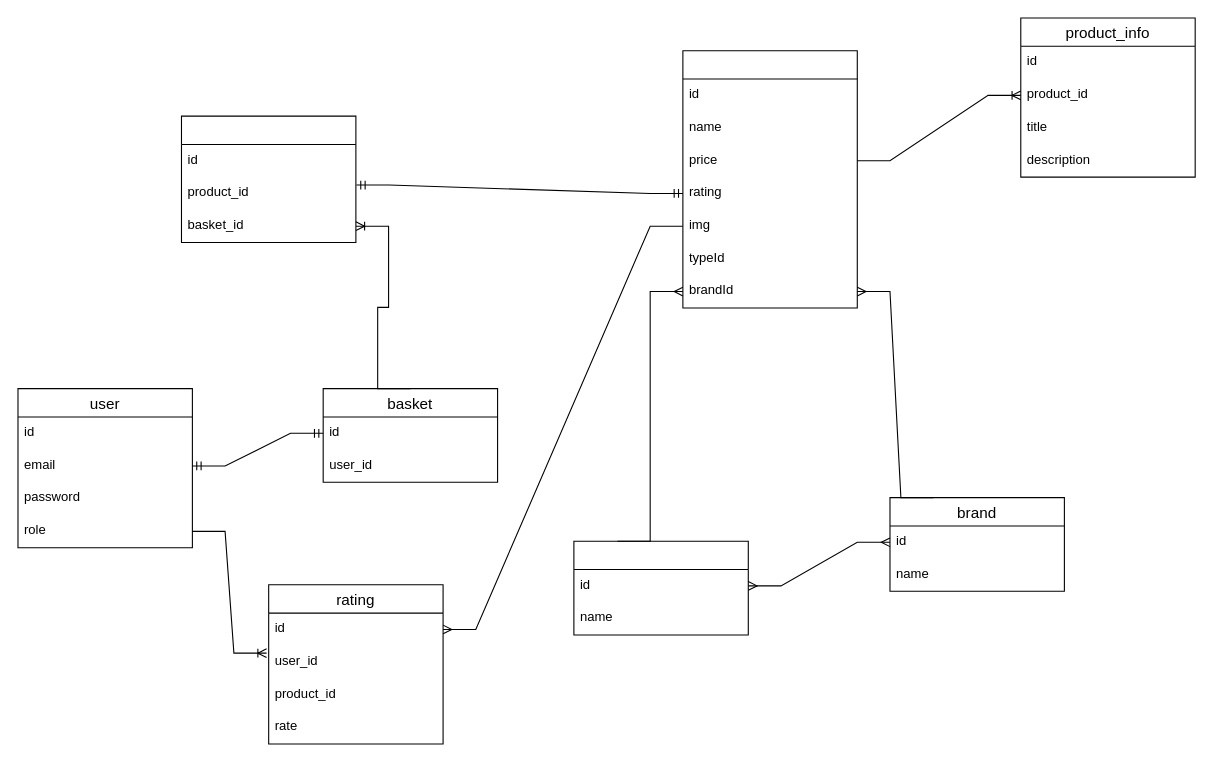
Image size: 1213x762. Some labels were removed from this diagram. Each missing label, with the box of its shape:
basket_product: (180, 115, 356, 243)
product: (682, 50, 857, 308)
type: (573, 540, 748, 635)
